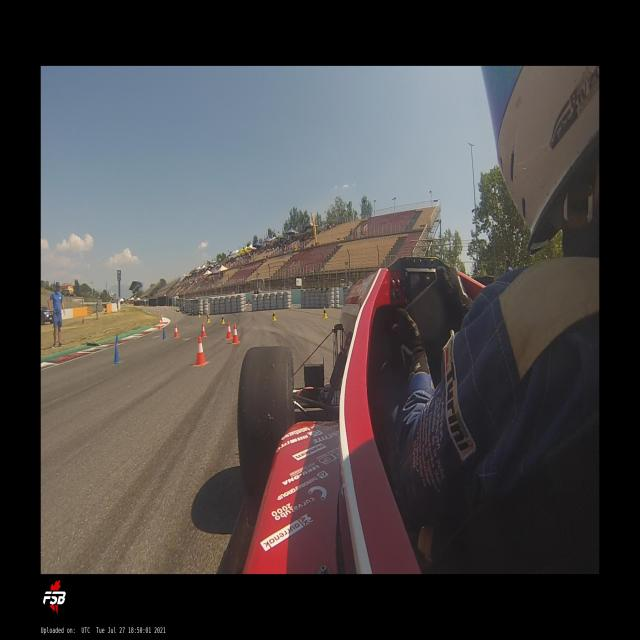orange_cone: (193, 337, 209, 366), (232, 324, 240, 344), (225, 322, 232, 340), (173, 324, 180, 338), (202, 323, 208, 338), (159, 323, 161, 329)
unknown_cone: (114, 344, 120, 364), (162, 328, 165, 340), (116, 333, 118, 344)
yellow_cone: (323, 306, 328, 318), (221, 314, 226, 324), (272, 310, 276, 322), (207, 314, 210, 323), (198, 311, 201, 318), (207, 312, 208, 320)
